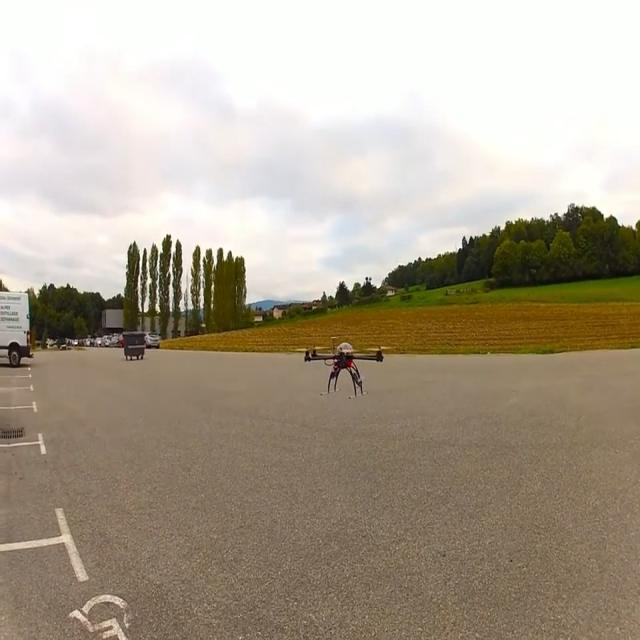drone: (298, 336, 384, 397)
